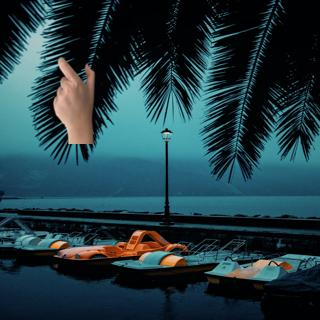Irritated: (40, 54, 99, 145)
